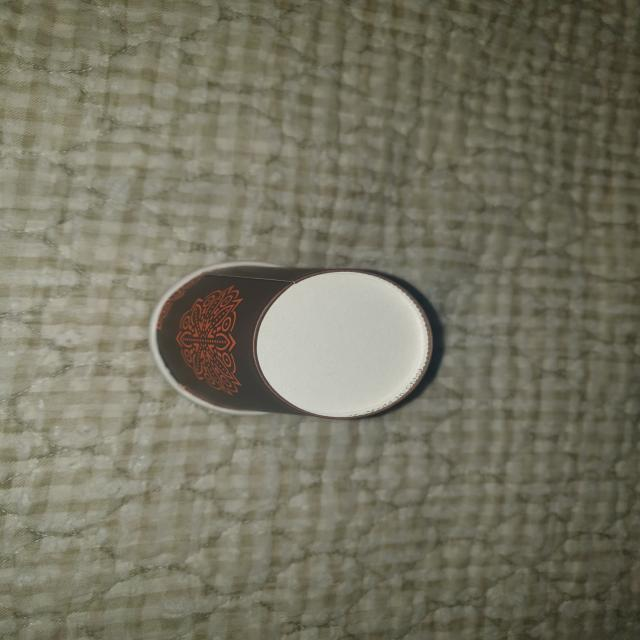cups: (140, 251, 458, 426)
